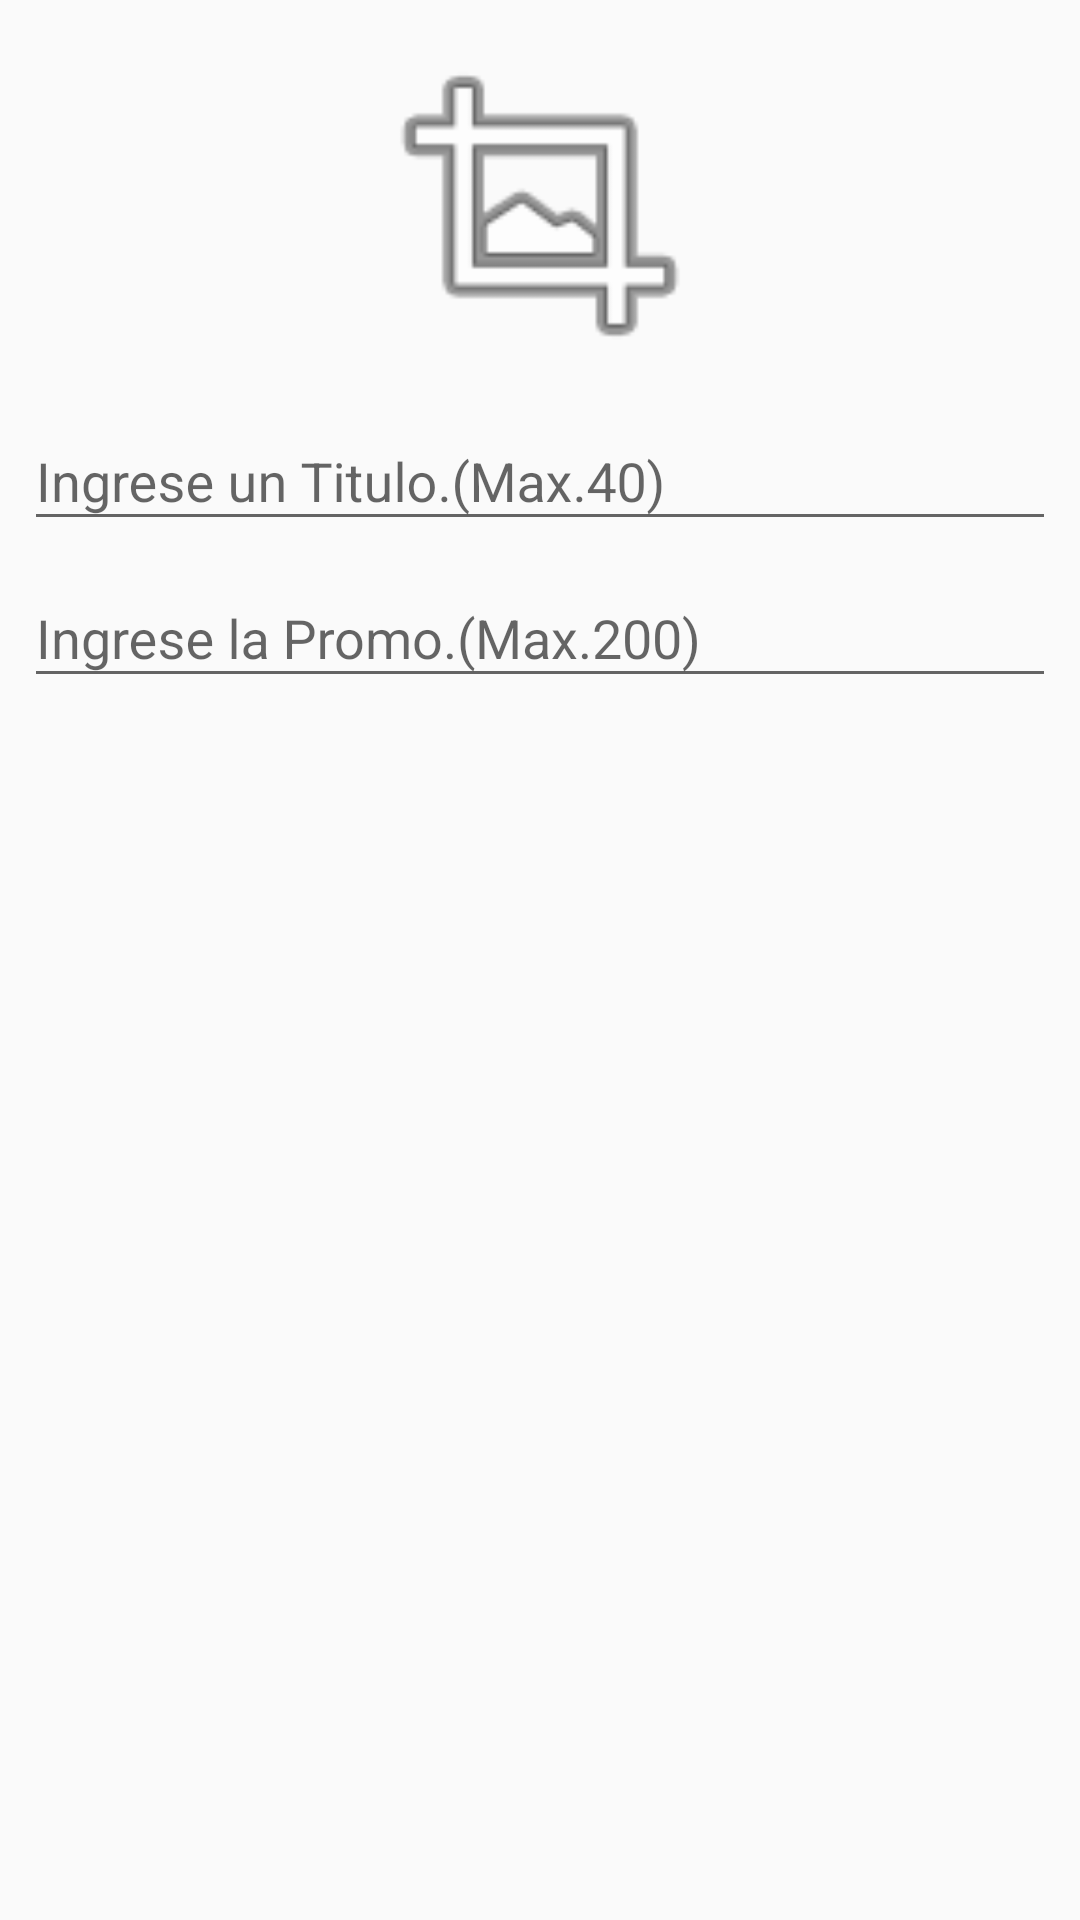

Where to tap for icons on this 1080px×1920px app screen, as (x=x, y=y):
crop: (x=540, y=205)
